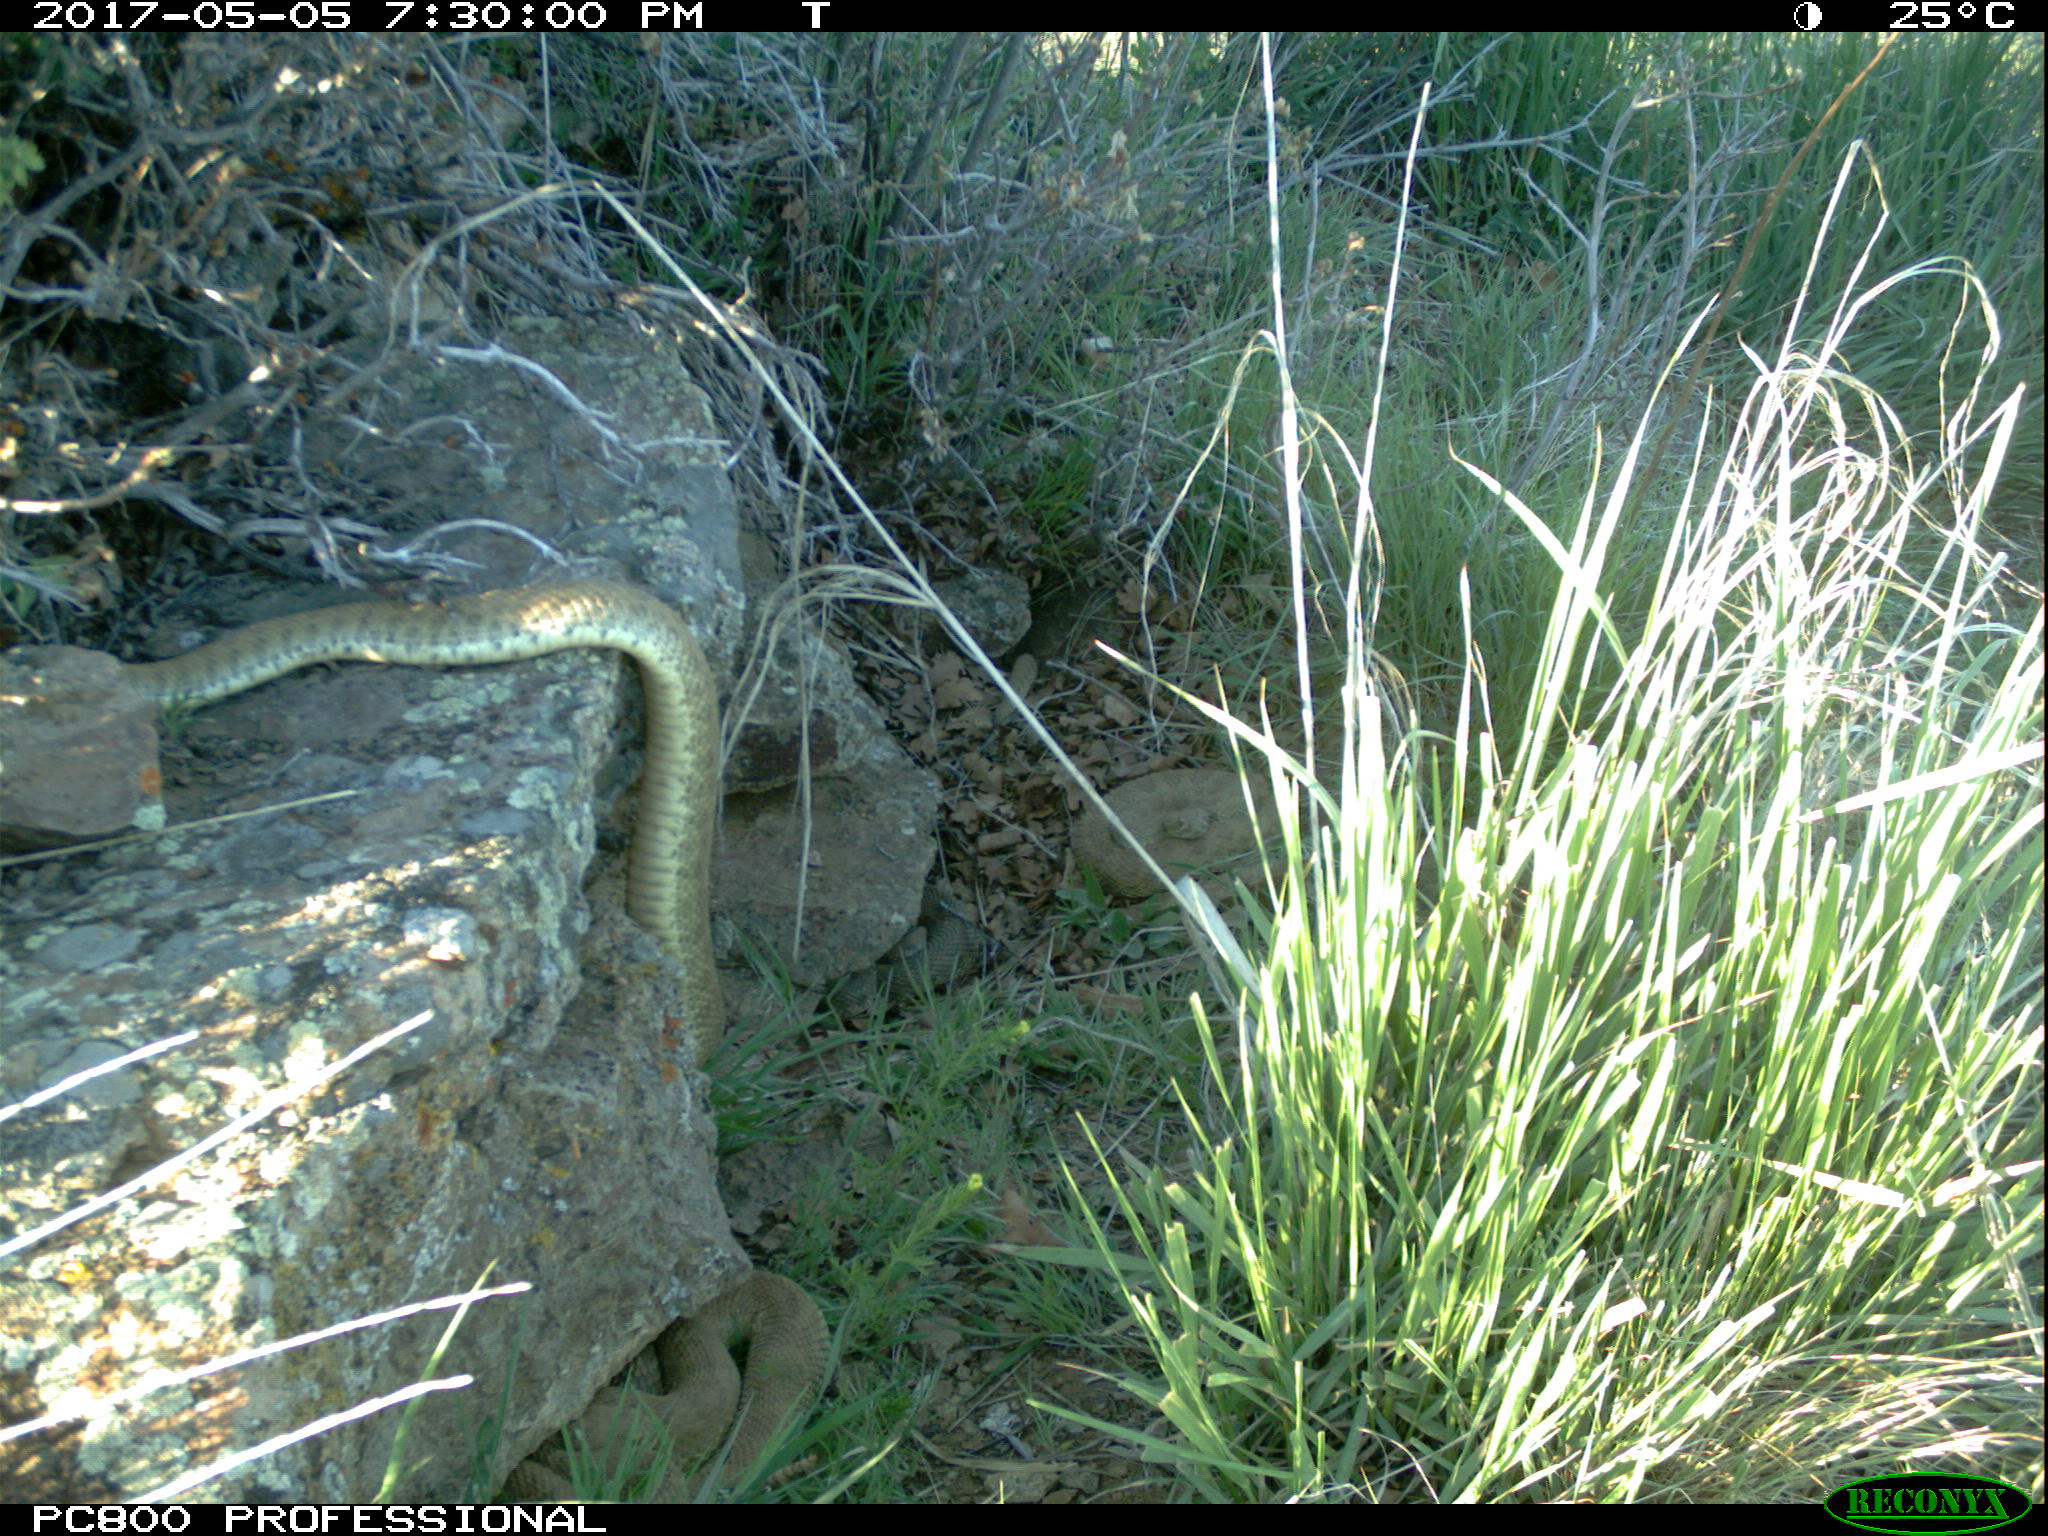snake: (132, 570, 743, 737), (506, 1275, 834, 1502), (631, 597, 727, 1066), (1058, 763, 1322, 895), (803, 902, 985, 1000)
